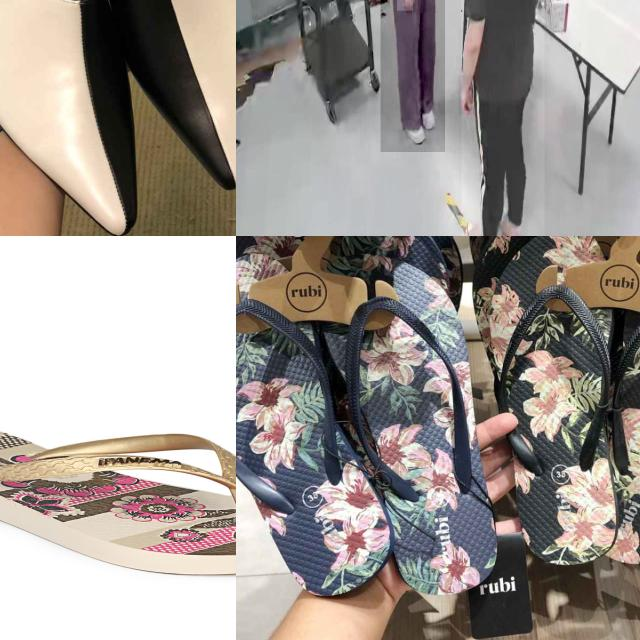Sandals: (236, 236, 516, 611), (479, 236, 640, 610), (0, 0, 236, 236), (0, 419, 236, 577)
hand_noglove: (458, 76, 476, 116), (396, 0, 413, 11)
person: (461, 0, 544, 236), (380, 0, 445, 152)
shoes: (488, 199, 523, 236), (399, 109, 427, 147), (462, 212, 500, 236), (418, 91, 438, 130)
